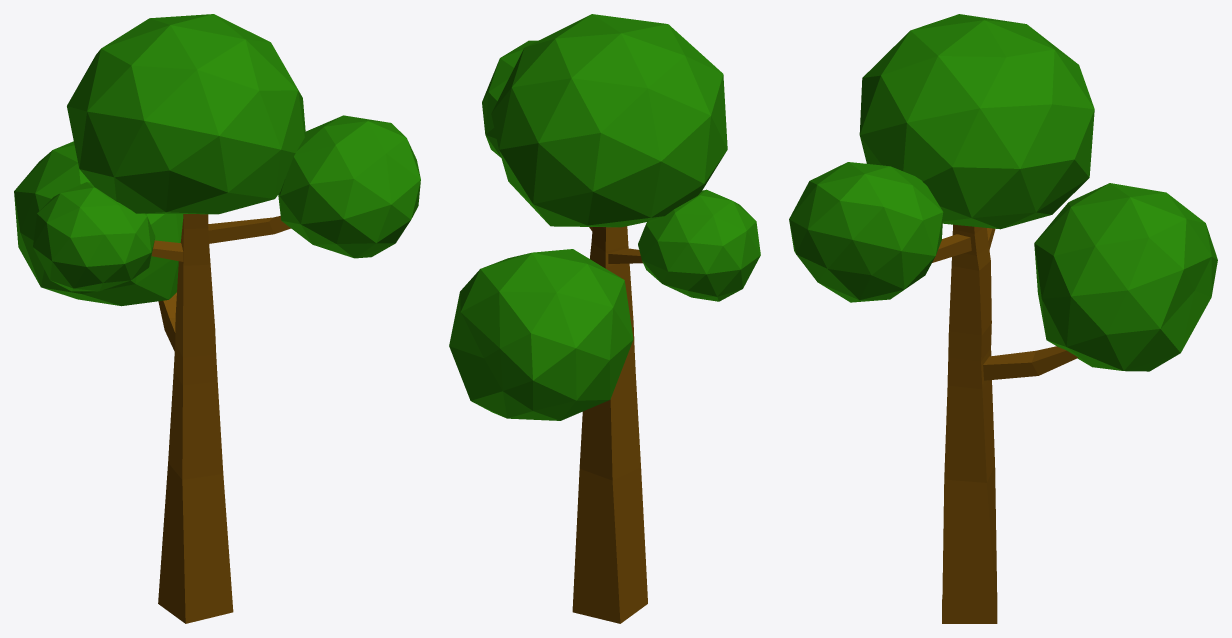
File: BubbleTree.fbx
3 views of the same model, side by side, from view 1: azimuth 30°, elevation 25°; view 2: azimuth 150°, elevation 25°; view 3: azimuth 270°, elevation 25° (orthographic).
Visible parts, largest first — view 1: BubbleTree; view 2: BubbleTree; view 3: BubbleTree.
Part boxes in pixels (x1,y1,x2,y2): BubbleTree: (14, 14, 420, 623); BubbleTree: (449, 14, 760, 623); BubbleTree: (789, 14, 1217, 623).
Size of the model in its own units: 473 by 850 by 567.
